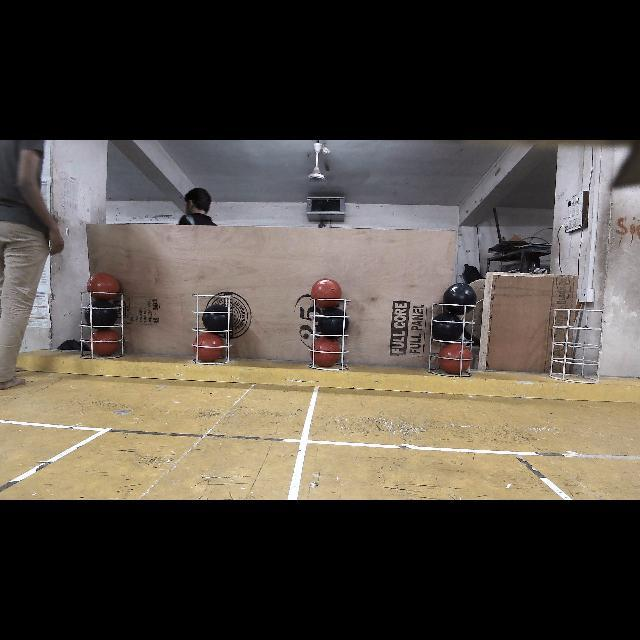P: (442, 282, 476, 315), (431, 312, 464, 344), (85, 299, 117, 329), (202, 304, 234, 334), (318, 308, 349, 336)
R: (309, 336, 341, 368), (440, 342, 472, 374), (193, 331, 223, 363), (86, 272, 120, 299), (311, 279, 341, 309), (89, 329, 121, 357)
S: (548, 306, 606, 386), (424, 302, 478, 381), (76, 286, 126, 364), (306, 296, 350, 374), (189, 292, 235, 366)
